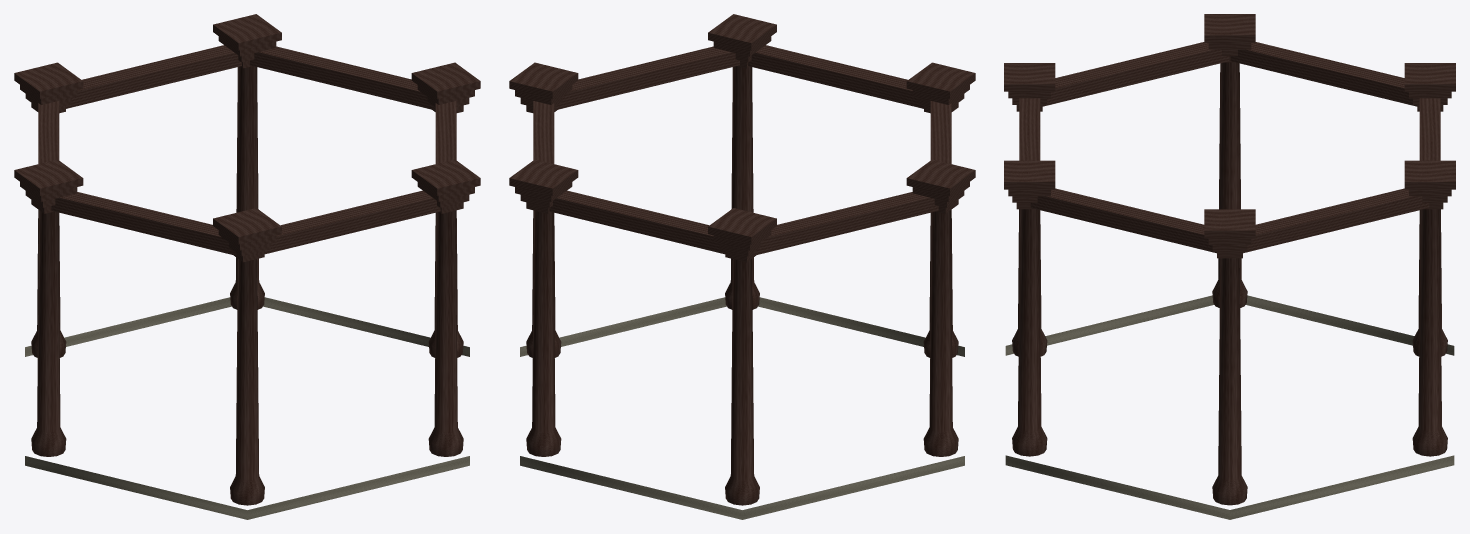
Rendered from pavilion.glb.
3 renders of one model, left to right at view 1: azimuth 30°, elevation 25°; view 2: azimuth 150°, elevation 25°; view 3: azimuth 270°, elevation 25°, orthographic.
Visible parts, largest first — view 1: pavilion0; view 2: pavilion0; view 3: pavilion0.
Boxes of the visible parts, x1,y1,x2,y2 form: pavilion0: [14, 14, 480, 519]; pavilion0: [509, 14, 975, 519]; pavilion0: [1004, 14, 1455, 519].
Size of the model in its own units: 6.16 by 3.78 by 5.37.
1 material, 1 textured.
